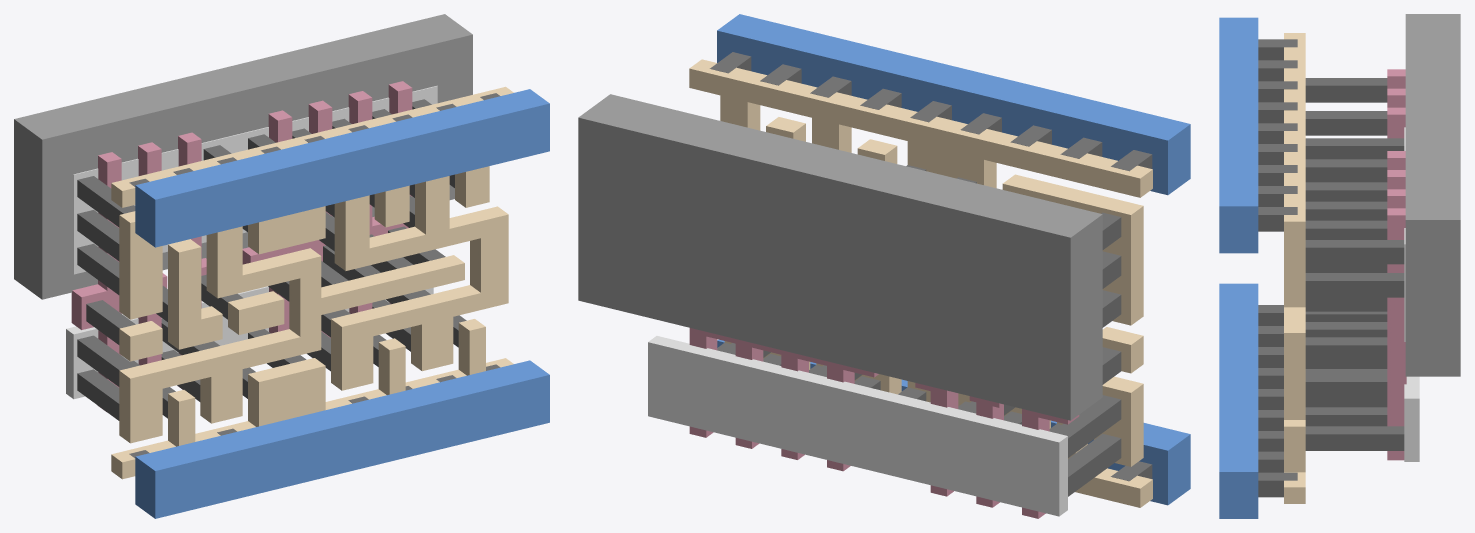
File: sky130_fd_sc_hd__or3_4.gds.gltf
The picture shows the model from 3 angles, left to right: view 1: azimuth 30°, elevation 25°; view 2: azimuth 150°, elevation 25°; view 3: azimuth 270°, elevation 25°; orthographic projection. The views are drawn at different scales.
Visible parts, largest first — view 1: sky130_fd_sc_hd__or3_4_li1, sky130_fd_sc_hd__or3_4_met1, sky130_fd_sc_hd__or3_4_nwell, sky130_fd_sc_hd__or3_4_licon, sky130_fd_sc_hd__or3_4_poly, sky130_fd_sc_hd__or3_4_diff, sky130_fd_sc_hd__or3_4_mcon; view 2: sky130_fd_sc_hd__or3_4_nwell, sky130_fd_sc_hd__or3_4_diff, sky130_fd_sc_hd__or3_4_li1, sky130_fd_sc_hd__or3_4_met1, sky130_fd_sc_hd__or3_4_licon, sky130_fd_sc_hd__or3_4_mcon, sky130_fd_sc_hd__or3_4_poly; view 3: sky130_fd_sc_hd__or3_4_licon, sky130_fd_sc_hd__or3_4_nwell, sky130_fd_sc_hd__or3_4_met1, sky130_fd_sc_hd__or3_4_mcon, sky130_fd_sc_hd__or3_4_li1, sky130_fd_sc_hd__or3_4_poly, sky130_fd_sc_hd__or3_4_diff.
Boxes of the visible parts, x1=… form: sky130_fd_sc_hd__or3_4_li1: x1=111, y1=86, x2=513, y2=479; sky130_fd_sc_hd__or3_4_met1: x1=135, y1=89, x2=549, y2=518; sky130_fd_sc_hd__or3_4_nwell: x1=14, y1=14, x2=472, y2=299; sky130_fd_sc_hd__or3_4_licon: x1=77, y1=99, x2=466, y2=420; sky130_fd_sc_hd__or3_4_poly: x1=71, y1=81, x2=412, y2=411; sky130_fd_sc_hd__or3_4_diff: x1=66, y1=85, x2=437, y2=399; sky130_fd_sc_hd__or3_4_mcon: x1=129, y1=93, x2=500, y2=457; sky130_fd_sc_hd__or3_4_nwell: x1=578, y1=94, x2=1102, y2=420; sky130_fd_sc_hd__or3_4_diff: x1=648, y1=336, x2=1067, y2=516; sky130_fd_sc_hd__or3_4_li1: x1=689, y1=59, x2=1152, y2=507; sky130_fd_sc_hd__or3_4_met1: x1=717, y1=14, x2=1190, y2=505; sky130_fd_sc_hd__or3_4_licon: x1=717, y1=165, x2=1121, y2=496; sky130_fd_sc_hd__or3_4_mcon: x1=710, y1=52, x2=1152, y2=481; sky130_fd_sc_hd__or3_4_poly: x1=689, y1=328, x2=1079, y2=518; sky130_fd_sc_hd__or3_4_licon: x1=1305, y1=78, x2=1404, y2=450; sky130_fd_sc_hd__or3_4_nwell: x1=1405, y1=14, x2=1460, y2=376; sky130_fd_sc_hd__or3_4_met1: x1=1219, y1=17, x2=1258, y2=518; sky130_fd_sc_hd__or3_4_mcon: x1=1258, y1=39, x2=1297, y2=497; sky130_fd_sc_hd__or3_4_li1: x1=1284, y1=33, x2=1305, y2=503; sky130_fd_sc_hd__or3_4_poly: x1=1387, y1=69, x2=1406, y2=460; sky130_fd_sc_hd__or3_4_diff: x1=1404, y1=127, x2=1419, y2=461.
Bounding box in the file's own units: 4.52 × 3.2 × 2.24.
